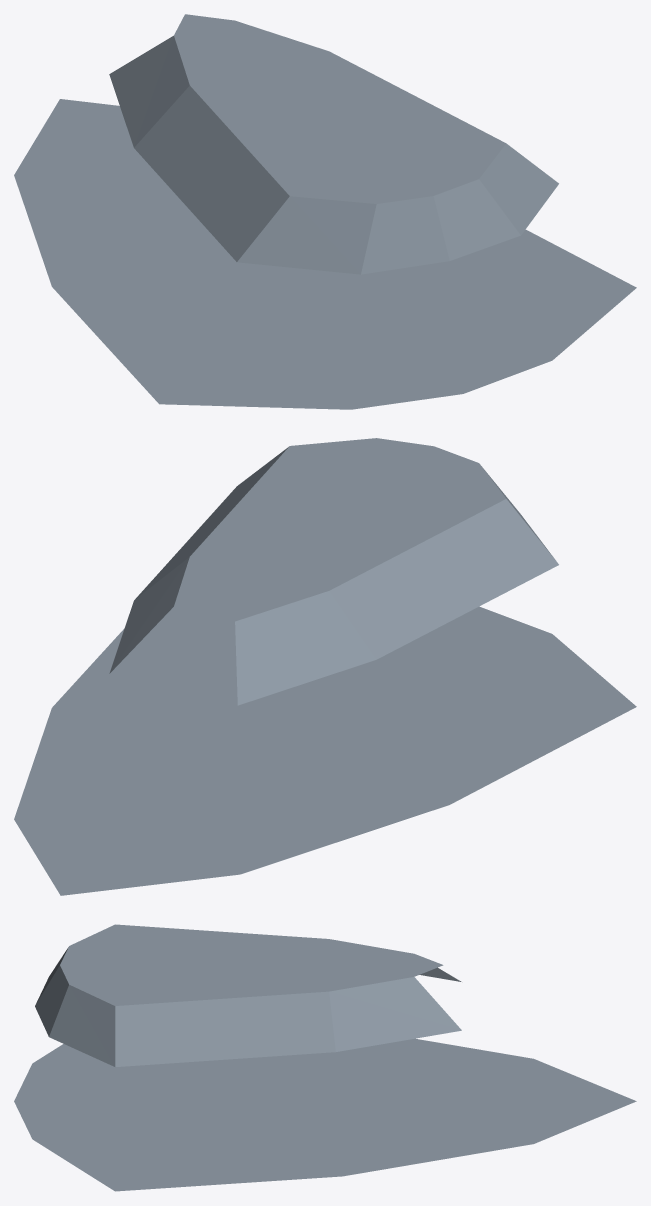
Rendered from hand.FBX.
3 views of the same model, one above another, from view 1: azimuth 30°, elevation 25°; view 2: azimuth 150°, elevation 25°; view 3: azimuth 270°, elevation 25° (orthographic). The views are drawn at different scales.
Visible parts, largest first — view 1: VIFS002; view 2: VIFS002; view 3: VIFS002.
Part boxes in pixels (x1,y1,x2,y2): VIFS002: [14, 14, 636, 409]; VIFS002: [14, 438, 636, 895]; VIFS002: [14, 924, 636, 1191].
Size of the model in its own units: 1.25 by 0.4399 by 1.82.
